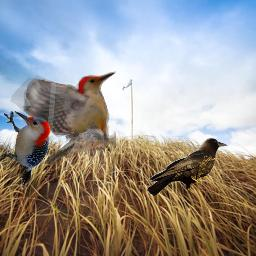Crow: (147, 136, 229, 198)
Woodpecker: (9, 70, 116, 164), (4, 111, 50, 190)
